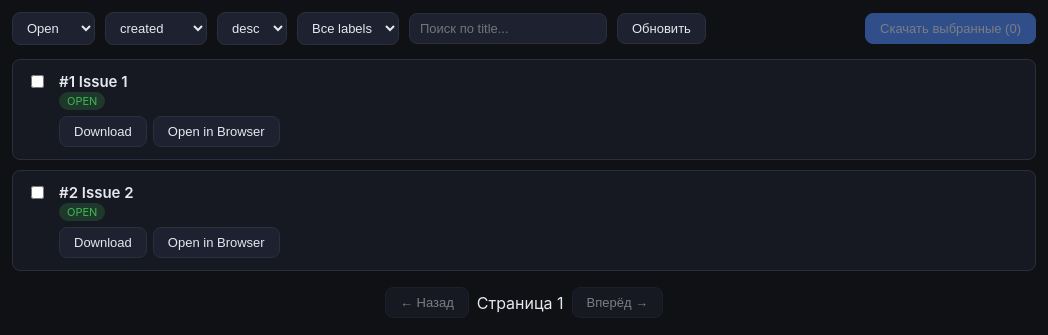
closing the list › pasting a construct behaves like typing it
Click the field with placeholder "Поиск по title..." at (508,28), box x1=409 y1=13 x2=607 y2=44
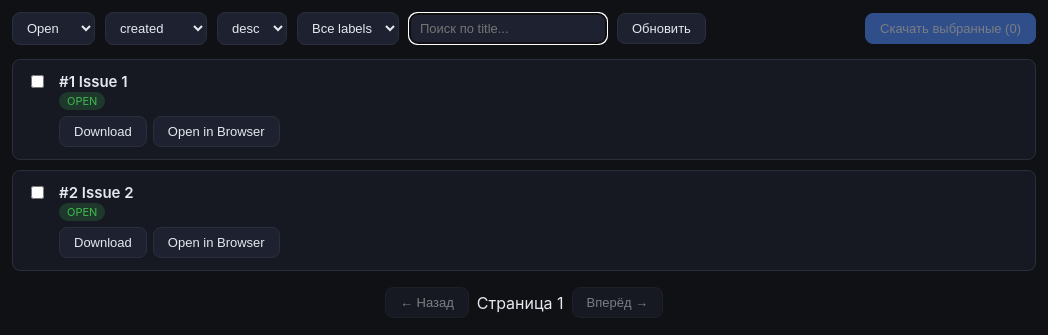
Type keys "!rel#log"
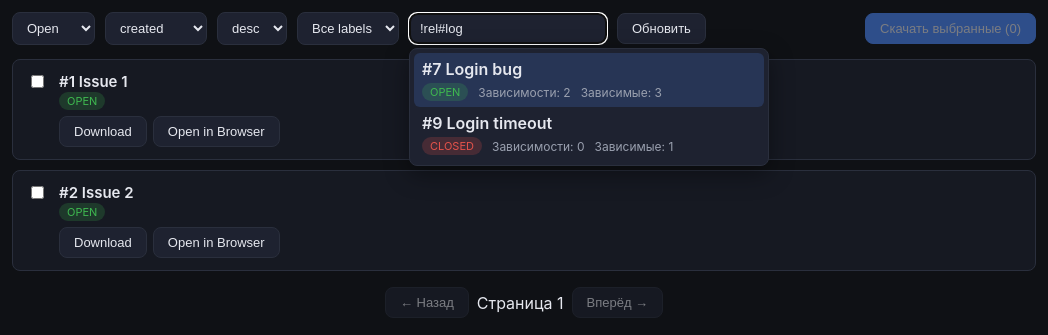
expect the option "#7 Login bug open Зависимости: 2 Зависимые: 3" is shown: met, box x1=414 y1=53 x2=764 y2=107
